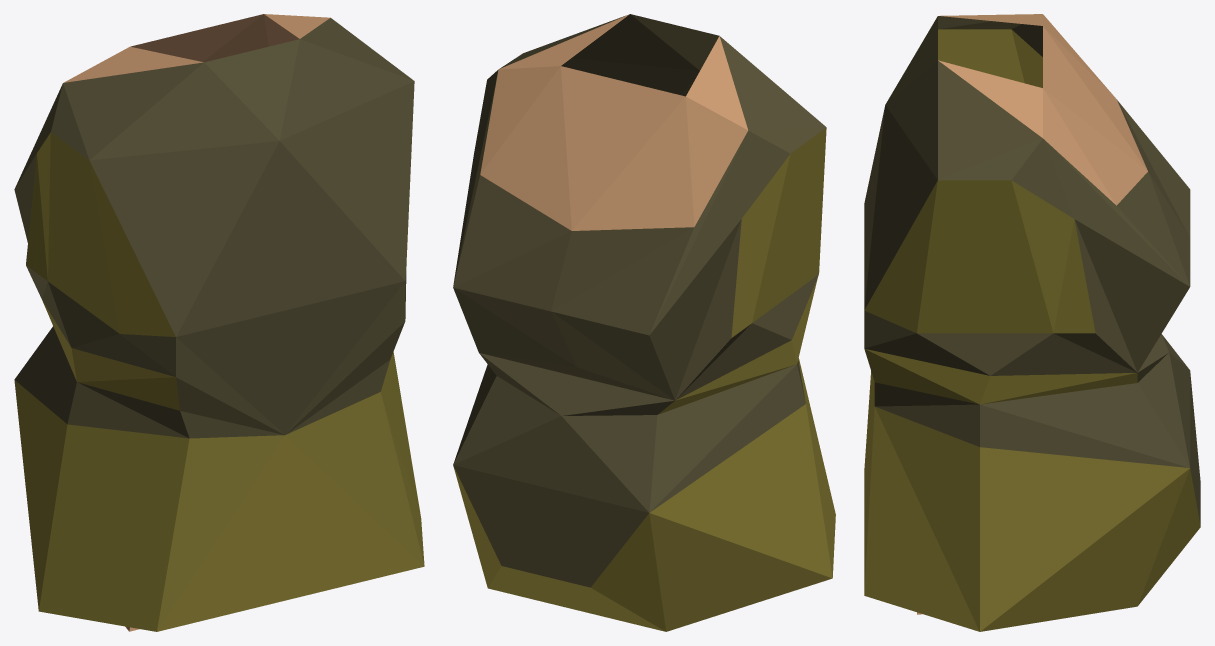
3 views of the same model, side by side, from view 1: azimuth 30°, elevation 25°; view 2: azimuth 150°, elevation 25°; view 3: azimuth 270°, elevation 25° (orthographic). The views are drawn at different scales.
Size of the model in its own units: 0.3125 by 0.4297 by 0.25.
